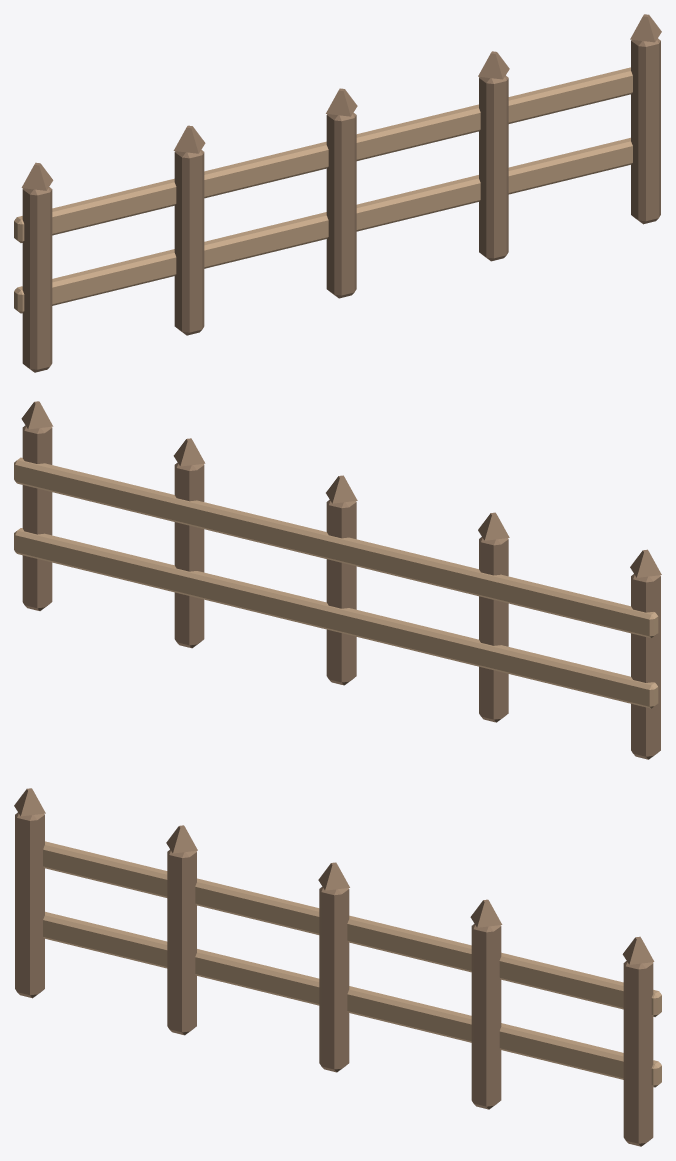
The model's file is prop_fence.glb.
3 renders of one model, top to bottom at view 1: azimuth 30°, elevation 25°; view 2: azimuth 150°, elevation 25°; view 3: azimuth 330°, elevation 25°, orthographic.
Parts seen in each view (by area): view 1: prop_fence; view 2: prop_fence; view 3: prop_fence.
Part boxes in pixels (x1,y1,x2,y2): prop_fence: [14, 14, 661, 372]; prop_fence: [14, 401, 661, 759]; prop_fence: [14, 788, 661, 1146].
Size of the model in its own units: 4 by 1.22 by 0.2.
